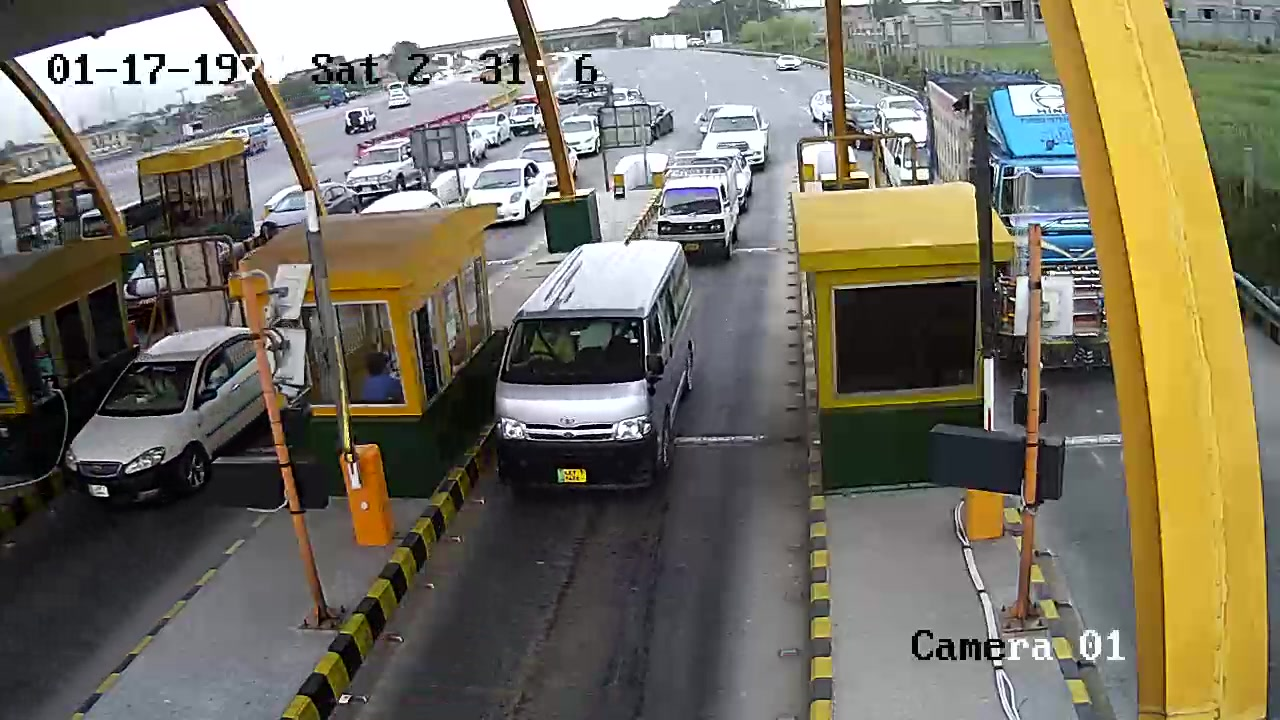F2: (488, 235, 698, 499)
